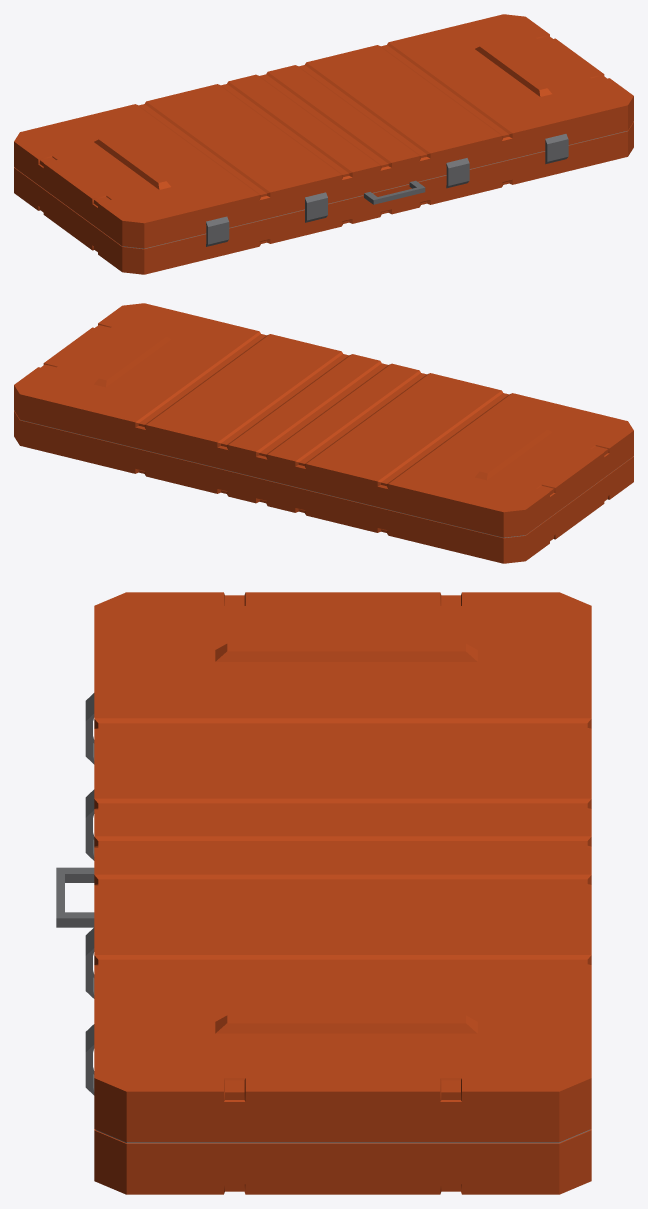
The model's file is Gun Case 2.fbx.
The picture shows the model from 3 angles, top to bottom: view 1: azimuth 30°, elevation 25°; view 2: azimuth 150°, elevation 25°; view 3: azimuth 270°, elevation 25°; orthographic projection. The views are drawn at different scales.
Parts seen in each view (by area): view 1: Gun_Case2; view 2: Gun_Case2; view 3: Gun_Case2.
Boxes of the visible parts, x1,y1,x2,y2 form: Gun_Case2: (14,14,633,274); Gun_Case2: (14,303,633,563); Gun_Case2: (56,592,591,1194).
Size of the model in its own units: 208 by 21.69 by 94.23.
